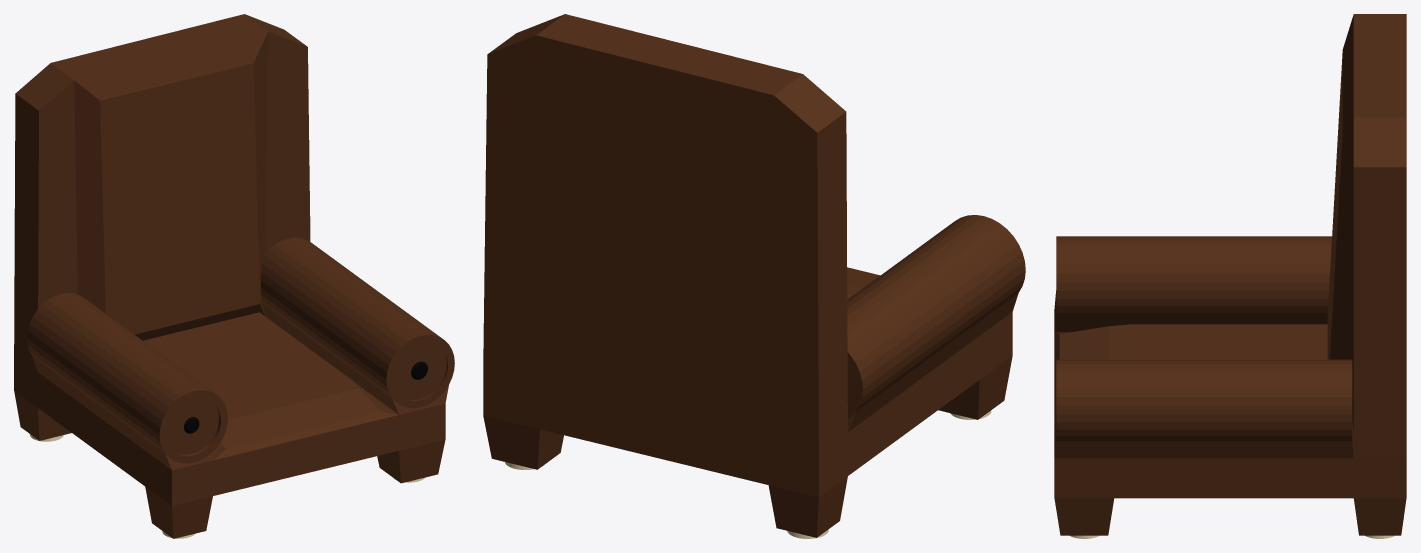
The model's file is Chair.fbx.
3 views of the same model, side by side, from view 1: azimuth 30°, elevation 25°; view 2: azimuth 150°, elevation 25°; view 3: azimuth 270°, elevation 25° (orthographic). The views are drawn at different scales.
Visible parts, largest first — view 1: Cube; view 2: Cube; view 3: Cube.
Boxes of the visible parts, box(x1,y1,x2,y2) form: Cube: box(14, 14, 454, 538); Cube: box(483, 14, 1025, 538); Cube: box(1054, 14, 1406, 538).
Bounding box in the file's own units: 59.08 × 68.96 × 54.72.
